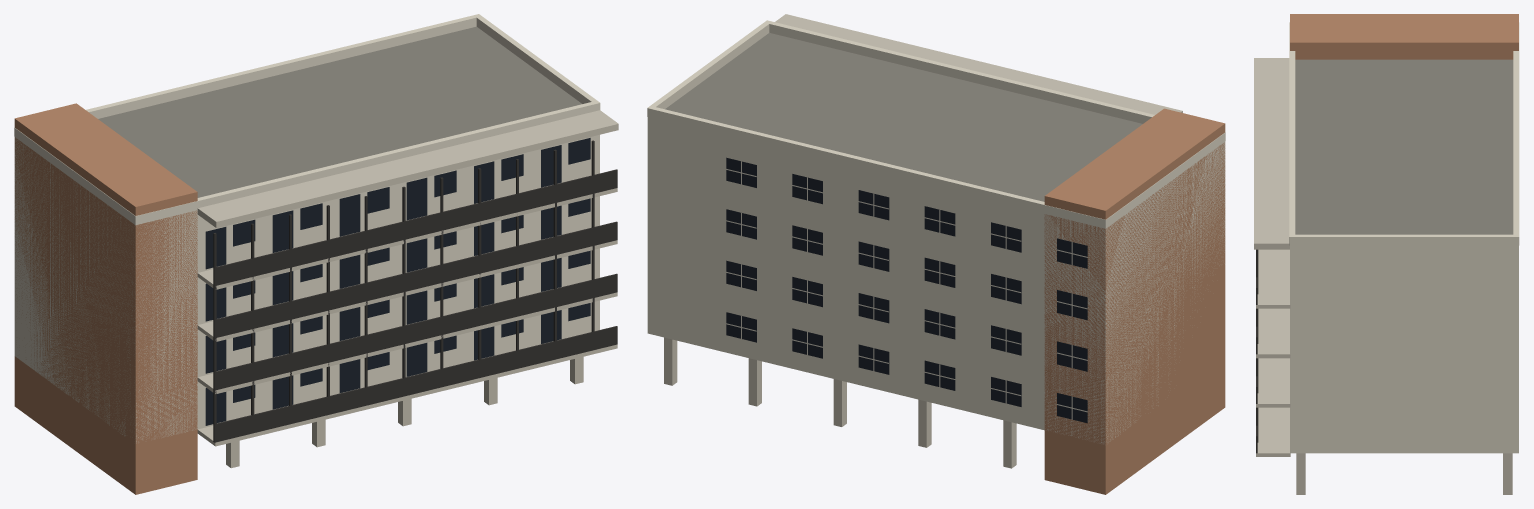
The model's file is sam-peck-motel-wing-1960.glb.
3 renders of one model, left to right at view 1: azimuth 30°, elevation 25°; view 2: azimuth 150°, elevation 25°; view 3: azimuth 270°, elevation 25°, orthographic. The views are drawn at different scales.
Visible parts, largest first — view 1: sam_stucco, sam_brick, sam_roof, sam_rail, sam_glass, sam_slab; view 2: sam_stucco, sam_brick, sam_roof, sam_glass, sam_slab, sam_sash; view 3: sam_stucco, sam_roof, sam_slab, sam_brick, sam_rail.
Part boxes in pixels (x1,y1,x2,y2): sam_stucco: (14,14,600,443); sam_brick: (14,103,197,494); sam_roof: (98,26,582,197); sam_rail: (213,140,617,442); sam_glass: (205,138,590,425); sam_slab: (197,110,618,468); sam_stucco: (647,20,1225,444); sam_brick: (1044,108,1225,494); sam_roof: (665,33,1142,201); sam_glass: (726,157,1087,423); sam_slab: (664,14,1182,468); sam_sash: (726,161,1087,419); sam_stucco: (1289,22,1519,453); sam_roof: (1295,59,1513,234); sam_slab: (1254,58,1512,494); sam_brick: (1290,14,1518,59); sam_rail: (1256,249,1258,453).
Bounding box in the file's own units: 27.04 × 16 × 14.14.
